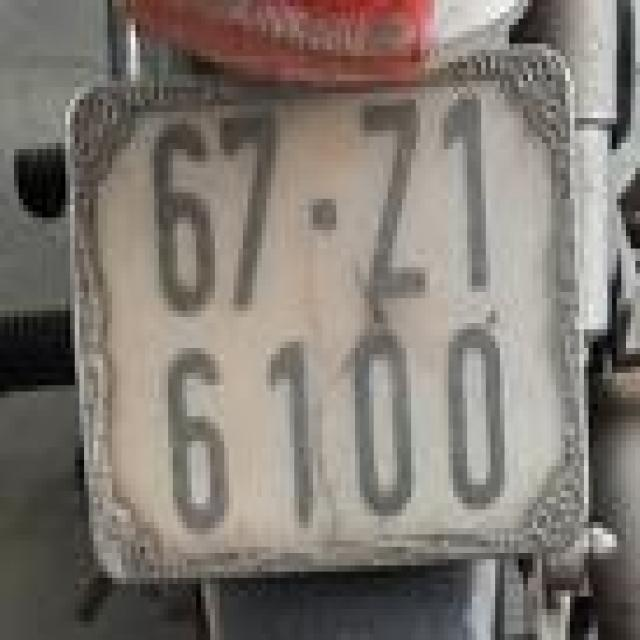0: (432, 320, 512, 519), (348, 323, 423, 528)
1: (439, 84, 505, 301), (262, 336, 327, 528)
6: (161, 338, 236, 538), (154, 121, 220, 314)
7: (210, 103, 285, 320)
Z: (357, 96, 437, 308)
